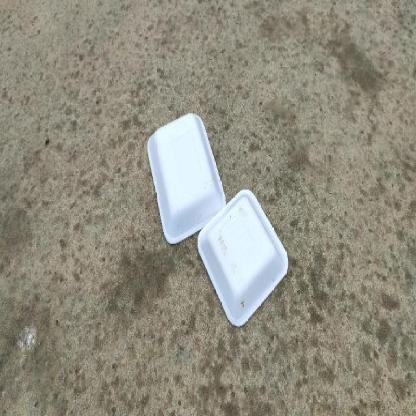Glass Cup: (198, 189, 289, 326), (198, 188, 287, 327), (147, 112, 226, 244), (148, 112, 226, 243)
